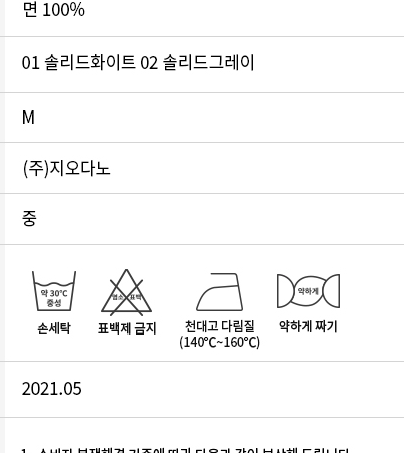KR_gentle_wring: (271, 267, 344, 313)
KR_hand_wash_30_neutral: (25, 264, 80, 317)
KR_no_chlorine_bleach: (98, 268, 158, 316)
